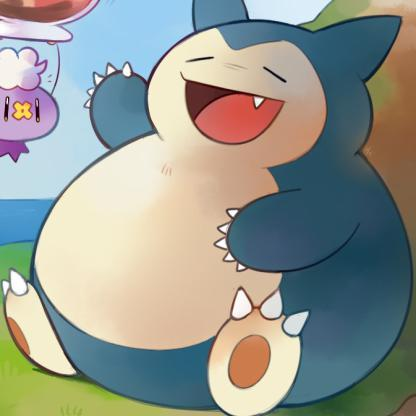Snorlax: (33, 17, 410, 408)
